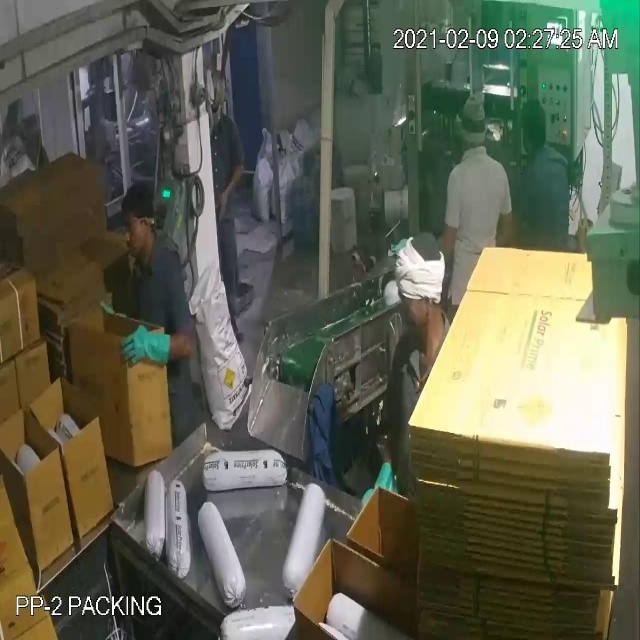Guantes: (114, 313, 178, 383)
Sin_guantes: (210, 153, 249, 229)
